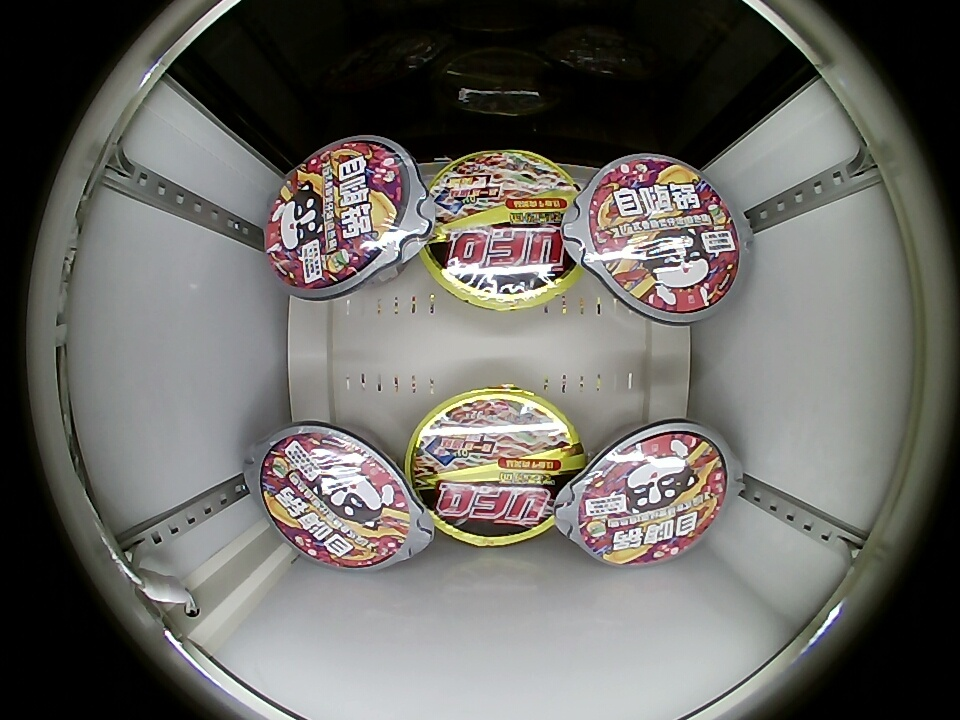ufo: (405, 386, 584, 548), (418, 150, 584, 311)
zihaiguo: (589, 160, 740, 313), (267, 141, 410, 289), (260, 433, 409, 568), (578, 430, 728, 564)
